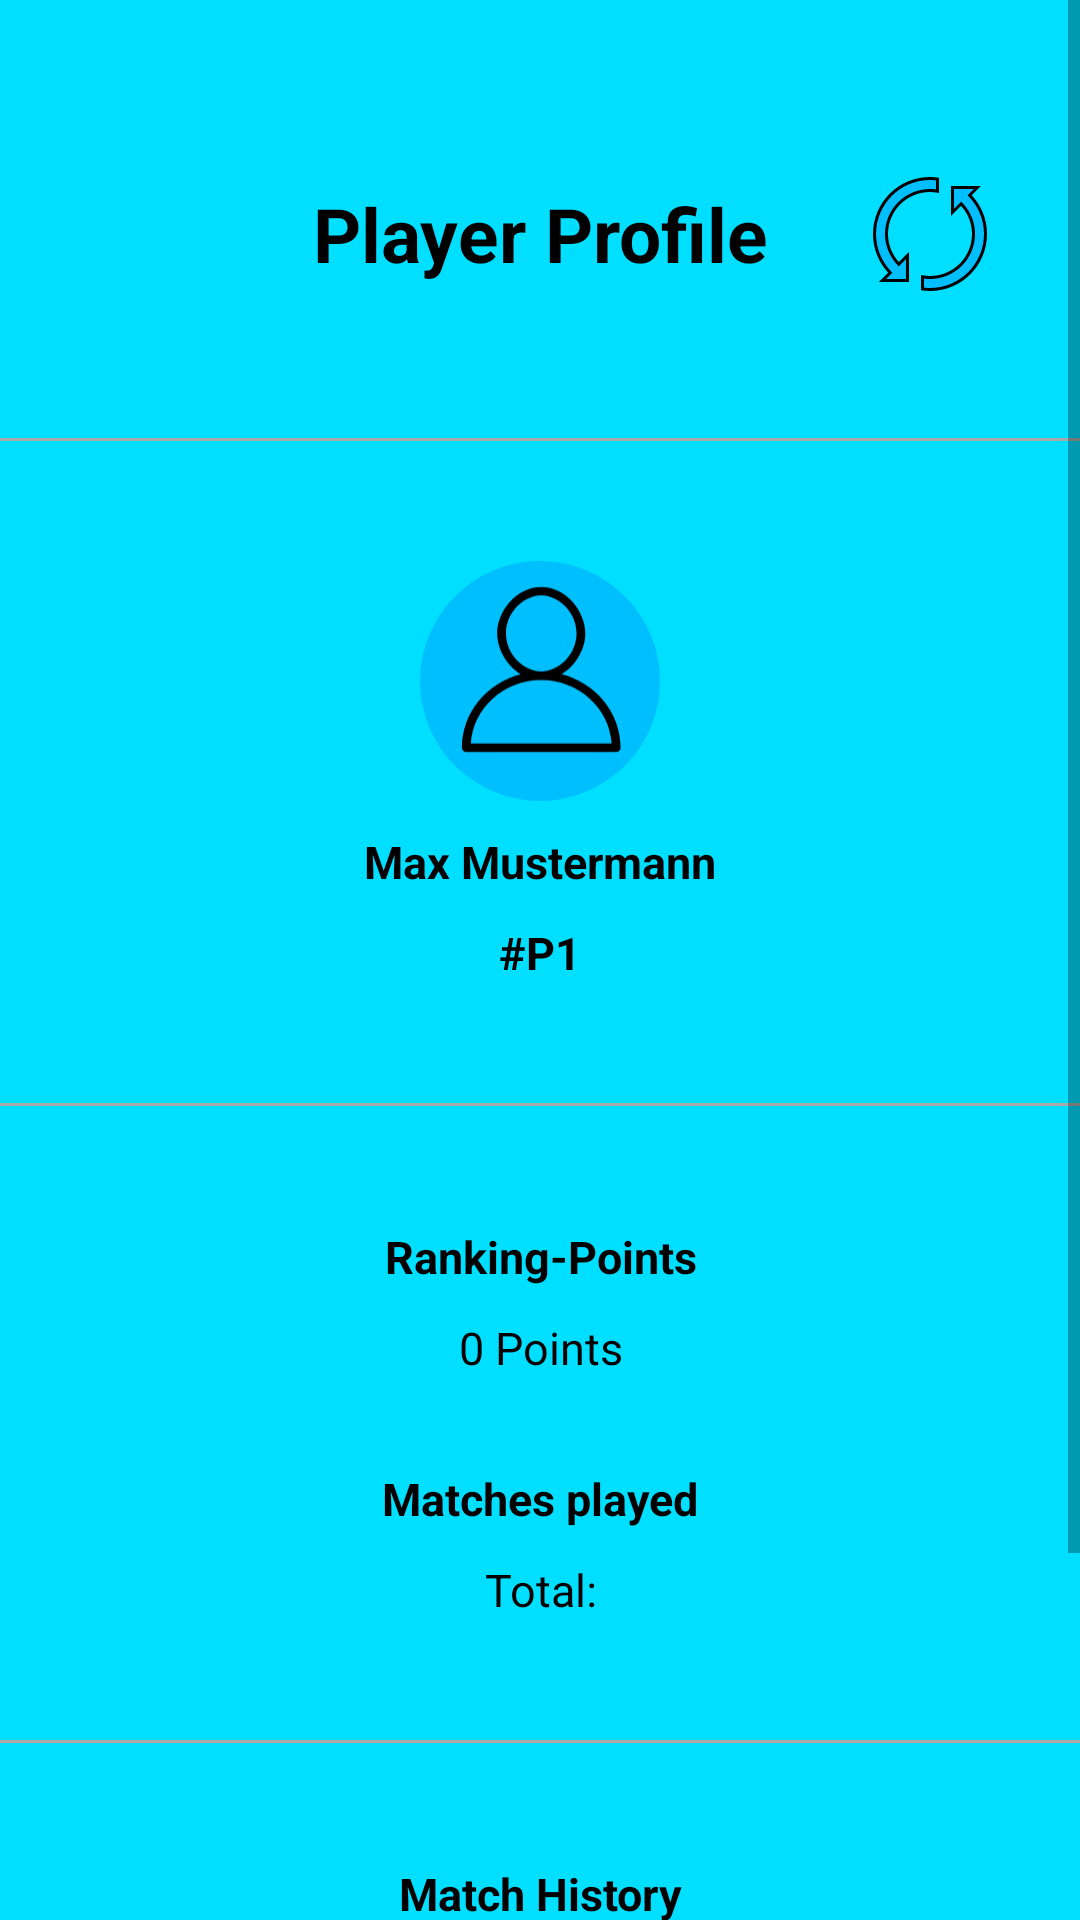

Screen size 1080w x 1920h. Icon name, then its box in pixels as [x1=x1, y1=y1, x2=x2, y2=y2]:
reload: [x1=873, y1=177, x2=987, y2=291]
